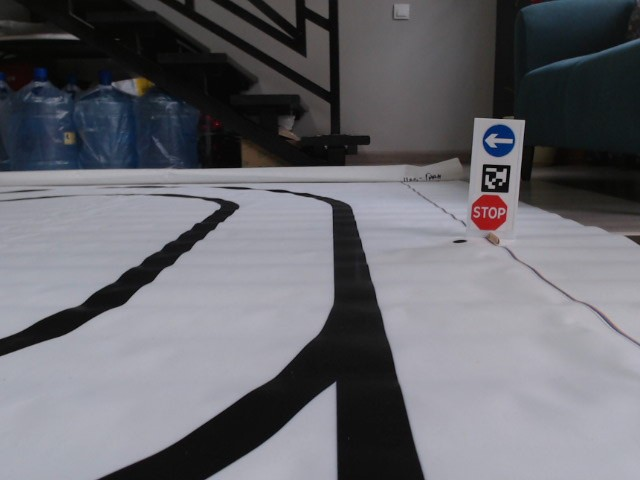Stop: (472, 193, 506, 230)
